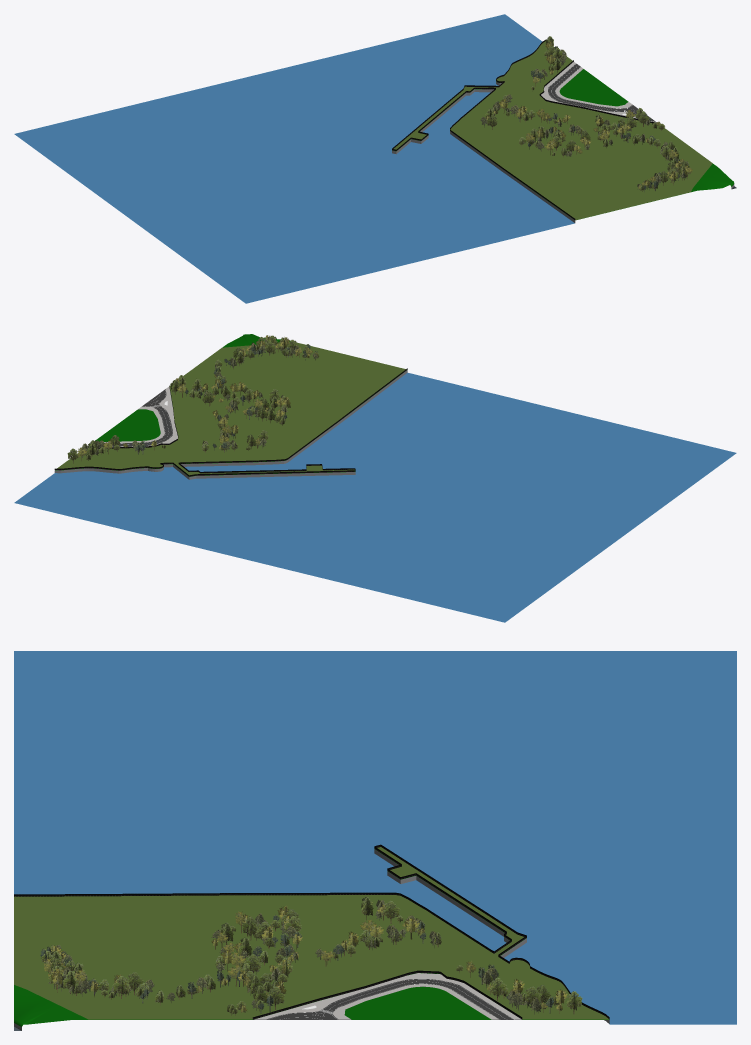
3 renders of one model, top to bottom at view 1: azimuth 30°, elevation 25°; view 2: azimuth 150°, elevation 25°; view 3: azimuth 270°, elevation 25°, orthographic. The views are drawn at different scales.
Parts seen in each view (by area): view 1: 005339_07139_water, 005339_07139_facilligreen, 005339_07139_ground, 005339_07139_walk, 005339_07139_road; view 2: 005339_07139_water, 005339_07139_facilligreen, 005339_07139_ground, 005339_07139_walk, 005339_07139_road; view 3: 005339_07139_water, 005339_07139_facilligreen, 005339_07139_ground, 005339_07139_walk, 005339_07139_road.
Boxes of the visible parts, bbox=[...] form: 005339_07139_water: bbox=[14, 14, 575, 303]; 005339_07139_facilligreen: bbox=[392, 36, 712, 220]; 005339_07139_ground: bbox=[392, 69, 736, 219]; 005339_07139_walk: bbox=[541, 62, 656, 122]; 005339_07139_road: bbox=[548, 63, 655, 121]; 005339_07139_water: bbox=[14, 370, 736, 622]; 005339_07139_facilligreen: bbox=[54, 335, 407, 476]; 005339_07139_ground: bbox=[55, 334, 389, 476]; 005339_07139_walk: bbox=[99, 386, 177, 447]; 005339_07139_road: bbox=[88, 389, 173, 446]; 005339_07139_water: bbox=[14, 651, 736, 1024]; 005339_07139_facilligreen: bbox=[14, 844, 609, 1019]; 005339_07139_ground: bbox=[14, 849, 609, 1030]; 005339_07139_walk: bbox=[254, 973, 521, 1019]; 005339_07139_road: bbox=[253, 979, 521, 1019].
Size of the model in its own units: 688 by 29.56 by 563.
5 materials, 5 textured.
